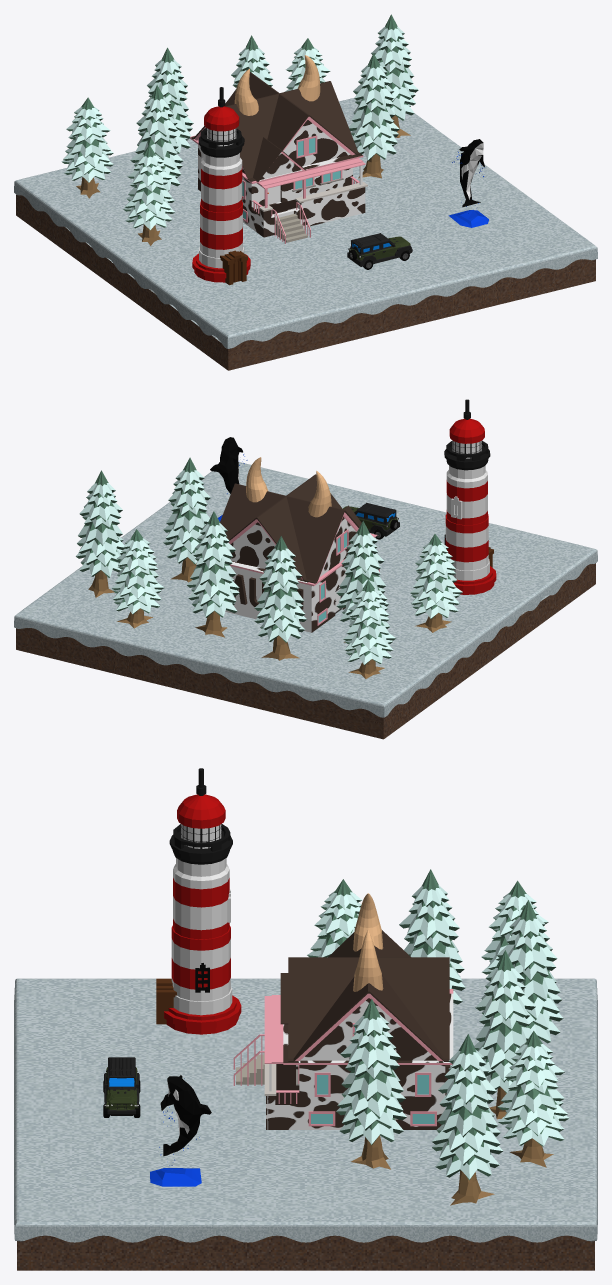
The picture shows the model from 3 angles, top to bottom: view 1: azimuth 30°, elevation 25°; view 2: azimuth 150°, elevation 25°; view 3: azimuth 270°, elevation 25°; orthographic projection. The views are drawn at different scales.
Visible parts, largest first — view 1: Cube.003, Cube.1242, OBJRANDOM_LIGHTHOUSE, VEHICLES_JEEP, ANIMAL_ORCA; view 2: Cube.003, Cube.1242, OBJRANDOM_LIGHTHOUSE, VEHICLES_JEEP, ANIMAL_ORCA; view 3: Cube.003, Cube.1242, OBJRANDOM_LIGHTHOUSE, ANIMAL_ORCA, VEHICLES_JEEP.
Boxes of the visible parts, <box> form: Cube.003: <box>14,14,597,370</box>; Cube.1242: <box>190,55,367,243</box>; OBJRANDOM_LIGHTHOUSE: <box>192,87,250,285</box>; VEHICLES_JEEP: <box>347,233,412,269</box>; ANIMAL_ORCA: <box>448,139,488,227</box>; Cube.003: <box>14,457,597,739</box>; Cube.1242: <box>220,457,379,632</box>; OBJRANDOM_LIGHTHOUSE: <box>444,399,496,594</box>; VEHICLES_JEEP: <box>343,502,399,539</box>; ANIMAL_ORCA: <box>210,437,247,521</box>; Cube.003: <box>14,869,597,1270</box>; Cube.1242: <box>233,893,453,1129</box>; OBJRANDOM_LIGHTHOUSE: <box>156,768,241,1034</box>; ANIMAL_ORCA: <box>150,1075,211,1186</box>; VEHICLES_JEEP: <box>103,1057,140,1117</box>.
Size of the model in its own units: 4040 by 2503 by 4040.
37 materials, 3 textured.
